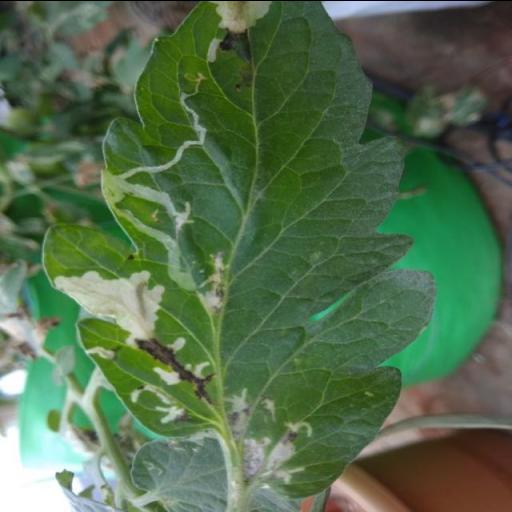Leaf Miner: (43, 0, 437, 502)
